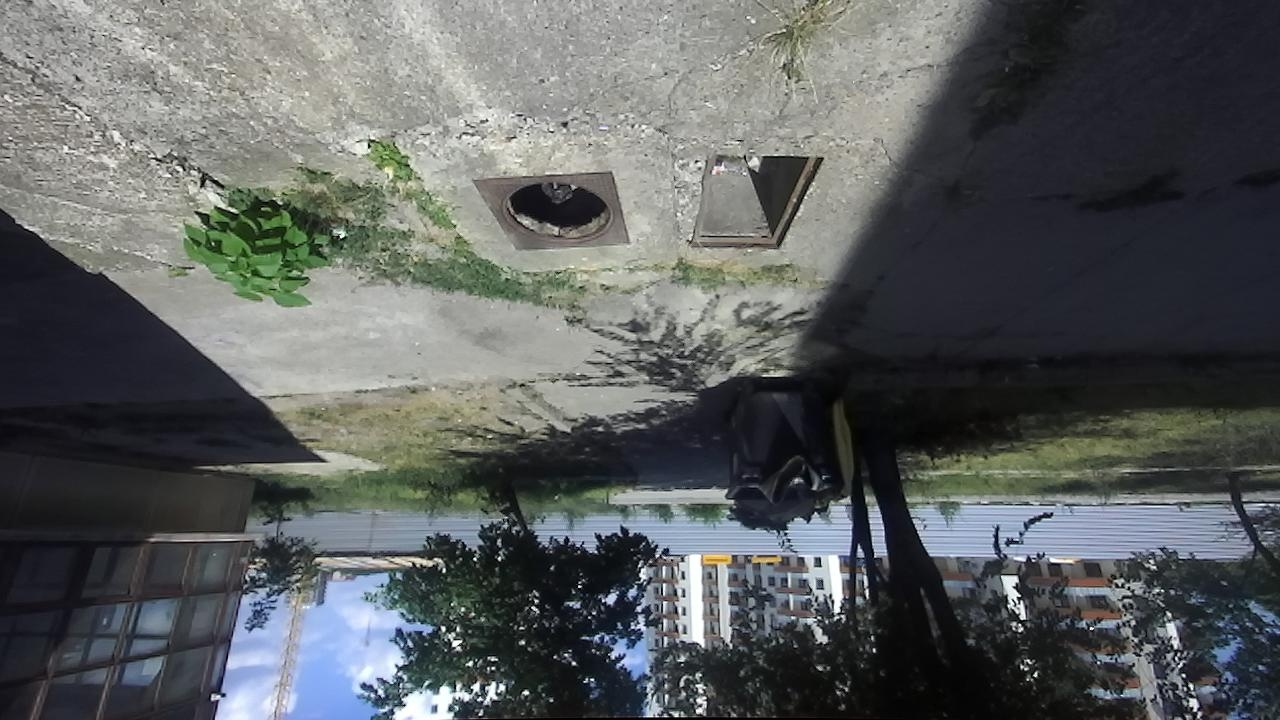drain: (685, 150, 833, 253), (493, 178, 619, 246)
